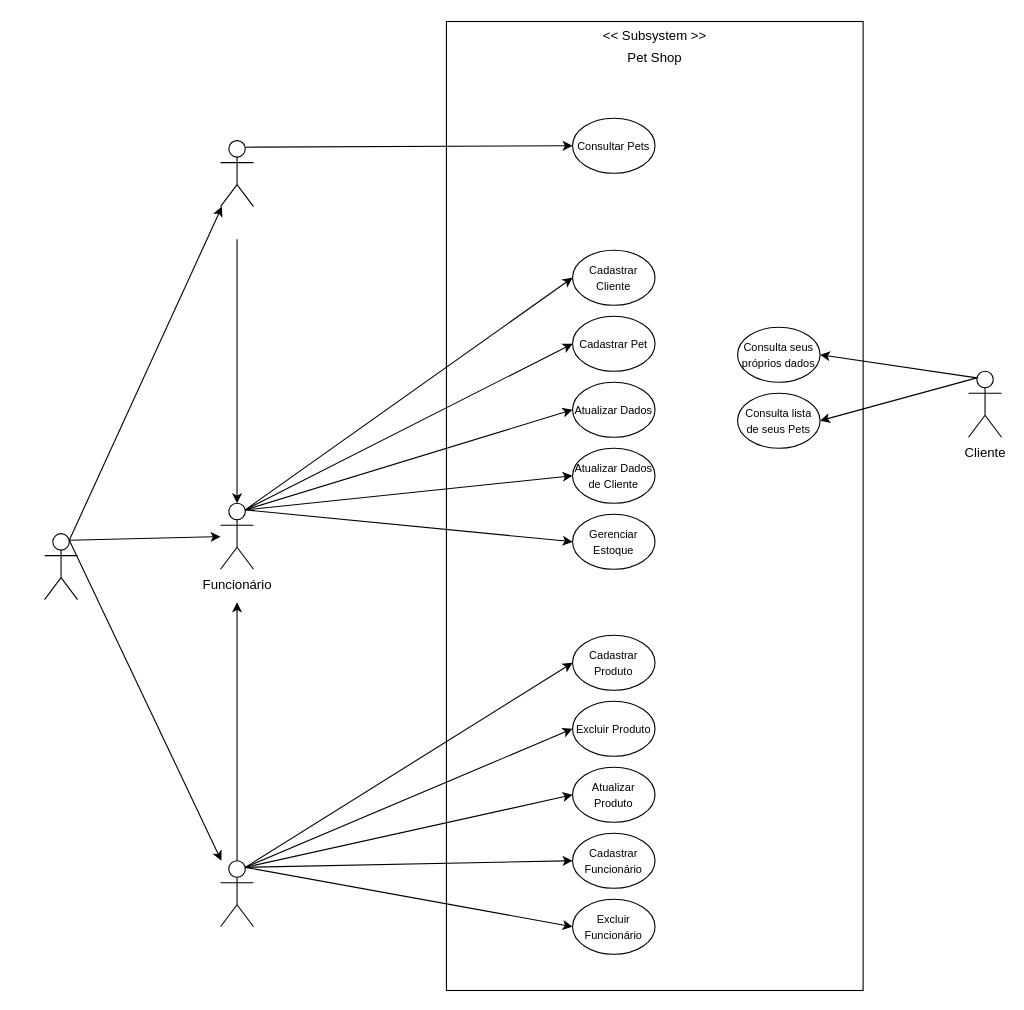
This 1024x1010 diagram has some shape labels left out. Here are the shapes that lost their labels. From the top down, the centre of each, then its label:
the point at 236,173: Veterinário
the point at 60,566: Administrador do Sistema
the point at 236,893: Gestor
